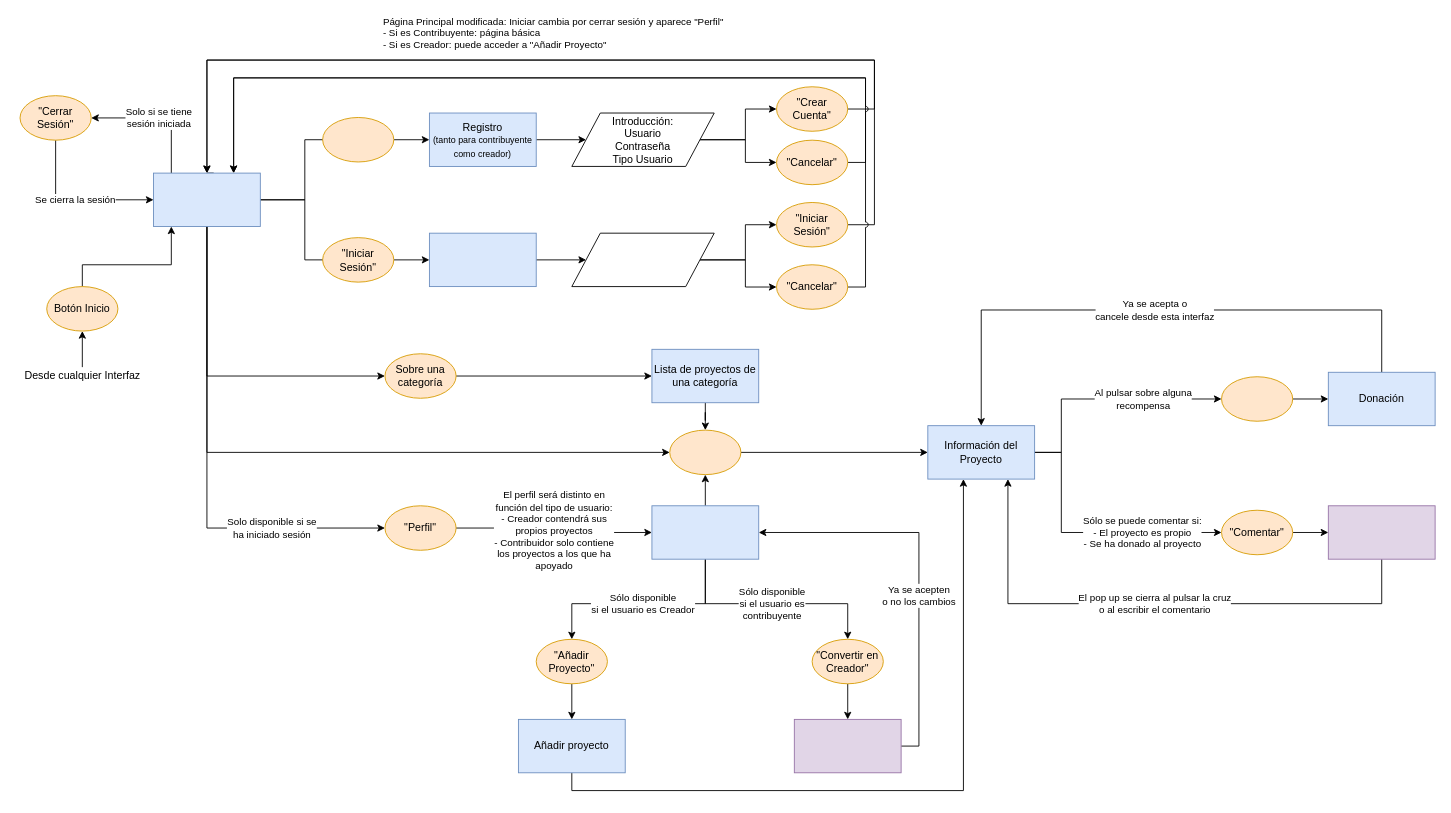
Image size: 1451x813. Some labels were removed from this diagram. The box of each missing label's shape, as (x1, y1, x2, y2) in pixels:
"Donar": (1221, 376, 1293, 421)
"Registrarse": (322, 117, 394, 162)
Aceptar Cambios (pop up): (793, 718, 901, 773)
Añadir Comentario (pop up): (1327, 505, 1435, 559)
Clic en un proyecto: (669, 429, 741, 475)
Información del perfil: (651, 505, 759, 559)
Inicio de Sesión (tanto para contribuyente como creador): (429, 232, 536, 287)
Introducción: Usuario Contraseña: (571, 232, 714, 287)
Página Principal: (153, 172, 260, 227)
